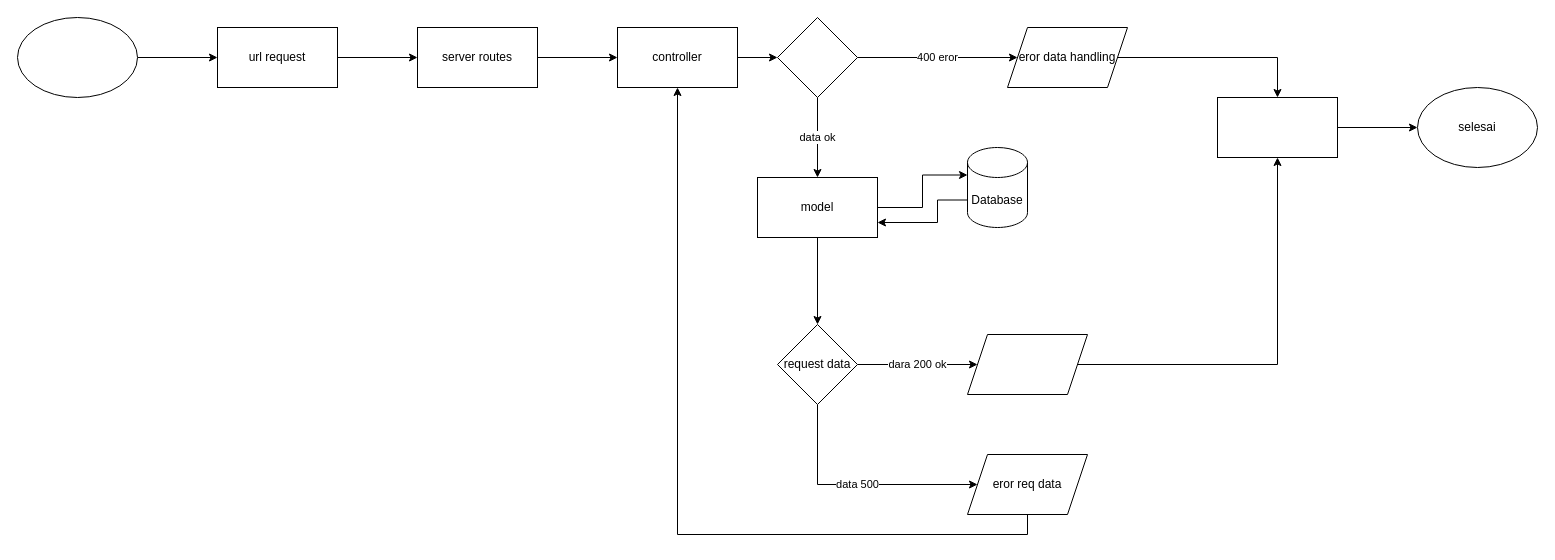
Some shapes in this 1555 by 560 pixel diagram are drawn without their labels. Here are the shapes that lost their labels. From the top down, the centre of each, then its label:
At point 77,57: "Start".
At point 817,57: "eror handinng".
At point 1277,127: "view".
At point 1027,364: "data succes".
